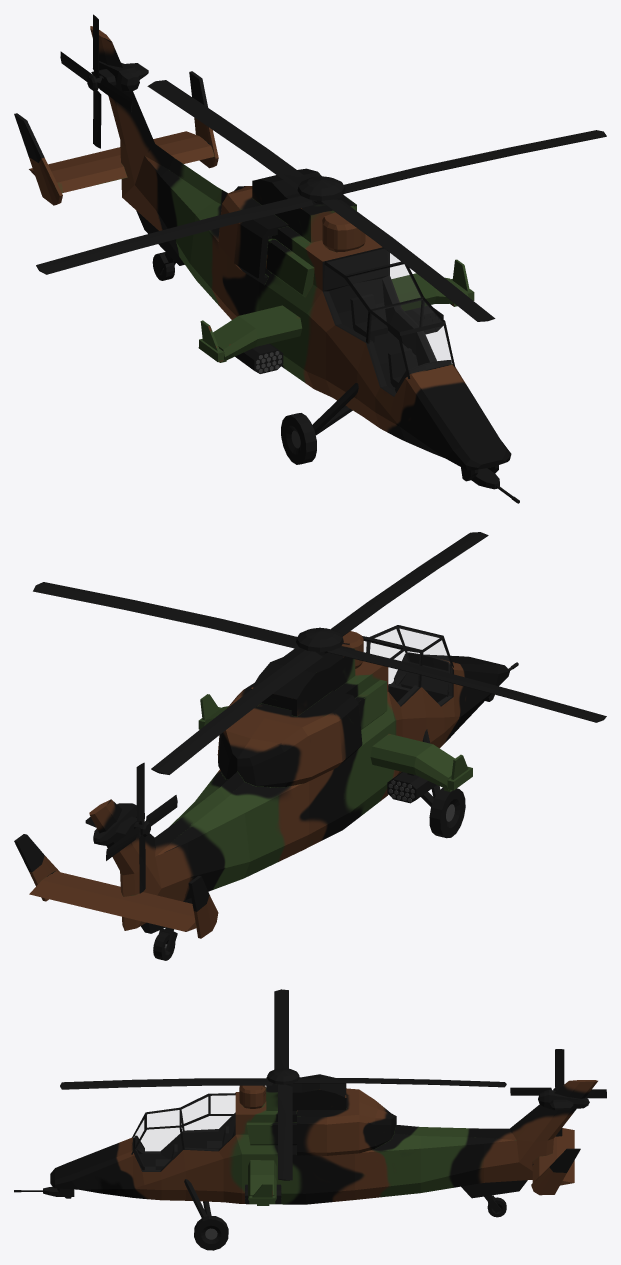
The model's file is helicopter.glb.
The picture shows the model from 3 angles, top to bottom: view 1: azimuth 30°, elevation 25°; view 2: azimuth 150°, elevation 25°; view 3: azimuth 270°, elevation 25°; orthographic projection. The views are drawn at different scales.
Visible parts, largest first — view 1: Hull, Rotor, Tail_Rotor, Tail_Support, Seat Back, Seat Front; view 2: Hull, Rotor, Tail_Rotor, Tail_Support, Dashboard; view 3: Hull, Rotor, Tail_Rotor, Tail_Support.
Boxes of the visible parts, x1,y1,x2,y2 form: Hull: (14, 26, 511, 470); Rotor: (36, 80, 606, 321); Tail_Rotor: (60, 14, 132, 148); Tail_Support: (87, 61, 148, 91); Seat Back: (350, 294, 387, 342); Seat Front: (388, 348, 413, 387); Hull: (14, 625, 509, 960); Rotor: (33, 532, 606, 774); Tail_Rotor: (106, 762, 177, 893); Tail_Support: (85, 803, 150, 845); Dashboard: (394, 652, 450, 696); Hull: (50, 1068, 597, 1250); Rotor: (60, 989, 506, 1180); Tail_Rotor: (510, 1049, 606, 1136); Tail_Support: (538, 1087, 589, 1110).
Bounding box in the file's own units: 1268 × 525 × 1683.
Materials: 4 (1 with a texture image).
